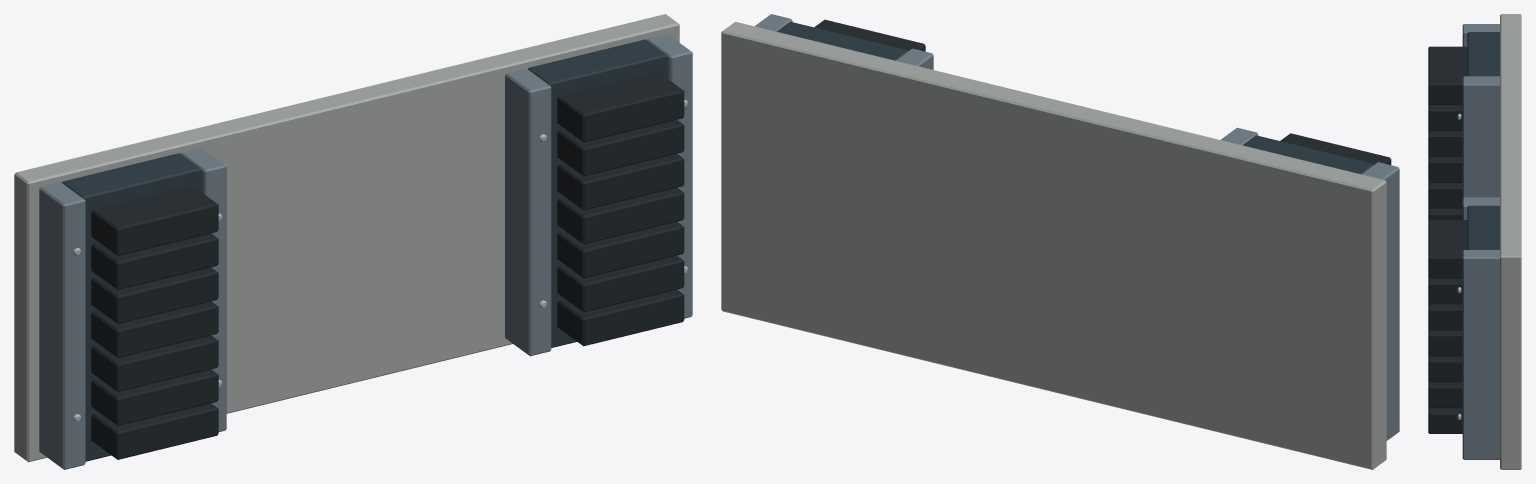
Rendered from b14_loading_dock_laminated_bumpers.glb.
3 renders of one model, left to right at view 1: azimuth 30°, elevation 25°; view 2: azimuth 150°, elevation 25°; view 3: azimuth 270°, elevation 25°, orthographic. The views are drawn at different scales.
Visible parts, largest first — view 1: b14_loading_dock_laminated_bumpers; view 2: b14_loading_dock_laminated_bumpers; view 3: b14_loading_dock_laminated_bumpers.
Boxes of the visible parts, x1,y1,x2,y2 form: b14_loading_dock_laminated_bumpers: (14, 14, 692, 469); b14_loading_dock_laminated_bumpers: (721, 14, 1399, 469); b14_loading_dock_laminated_bumpers: (1428, 14, 1521, 469).
Size of the model in its own units: 1.85 by 0.76 by 0.301.
